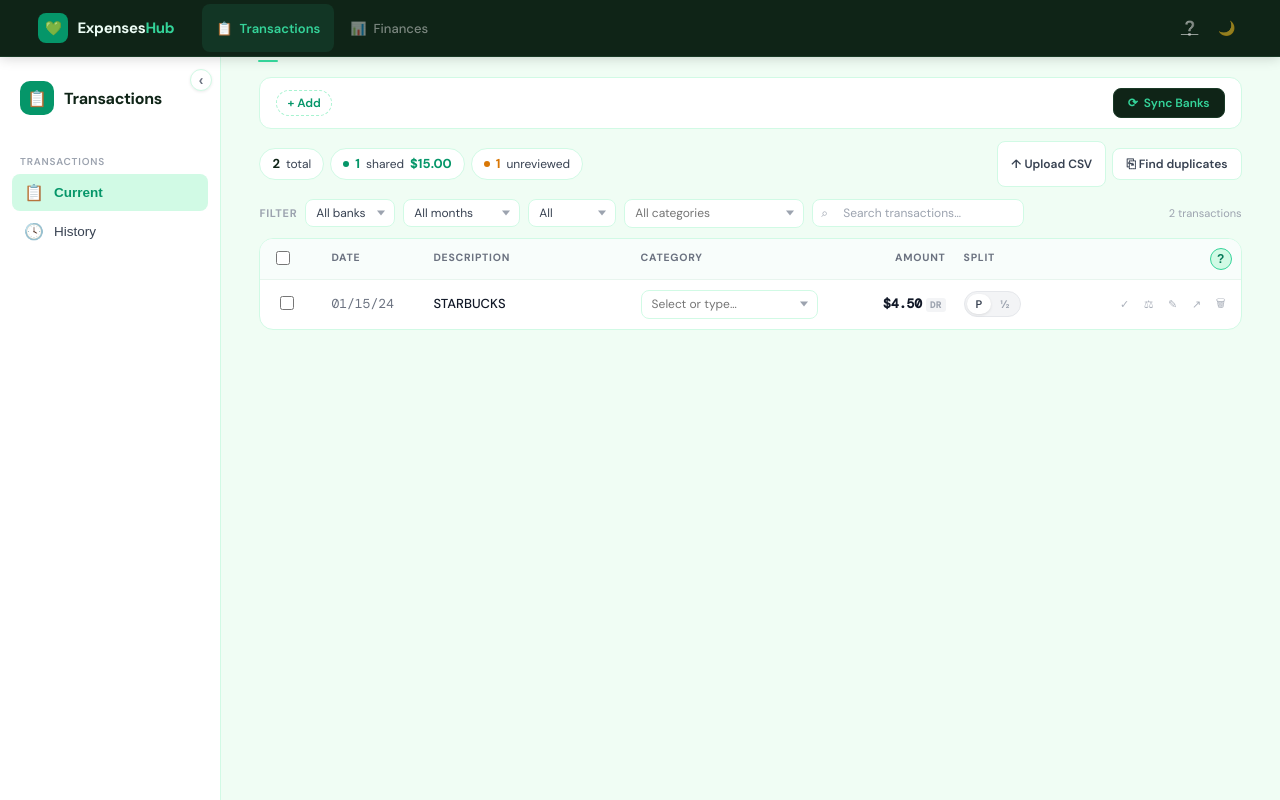
Test case: clicking Sync Banks opens the sync modal
This screenshot has width=1280, height=800.
Expected: the button "STARBUCKS" is shown, [433,295,506,313]
Click the button "⟳ Sync Banks" at {"x": 1169, "y": 103}, box [1113,88,1225,118]
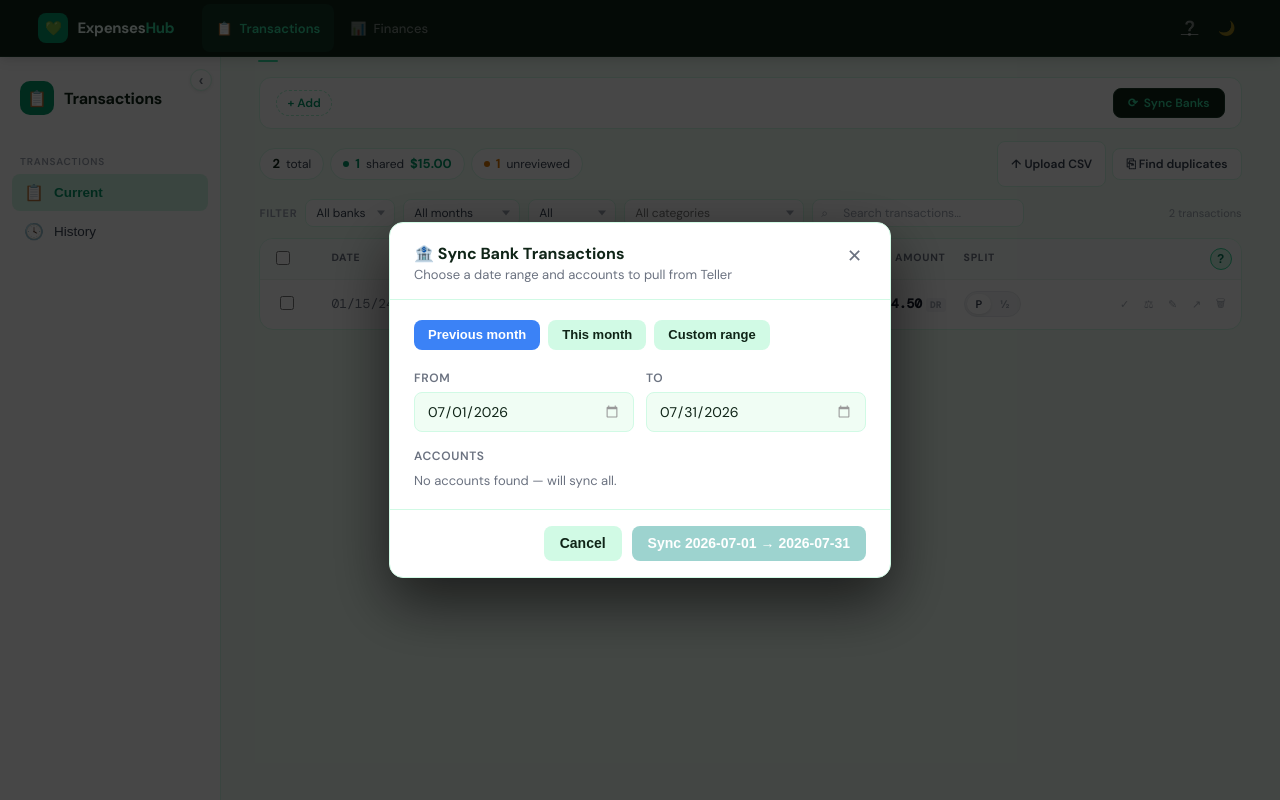
Expected: the text "🏦 Sync Bank Transactions" is shown, [414,243,624,264]
